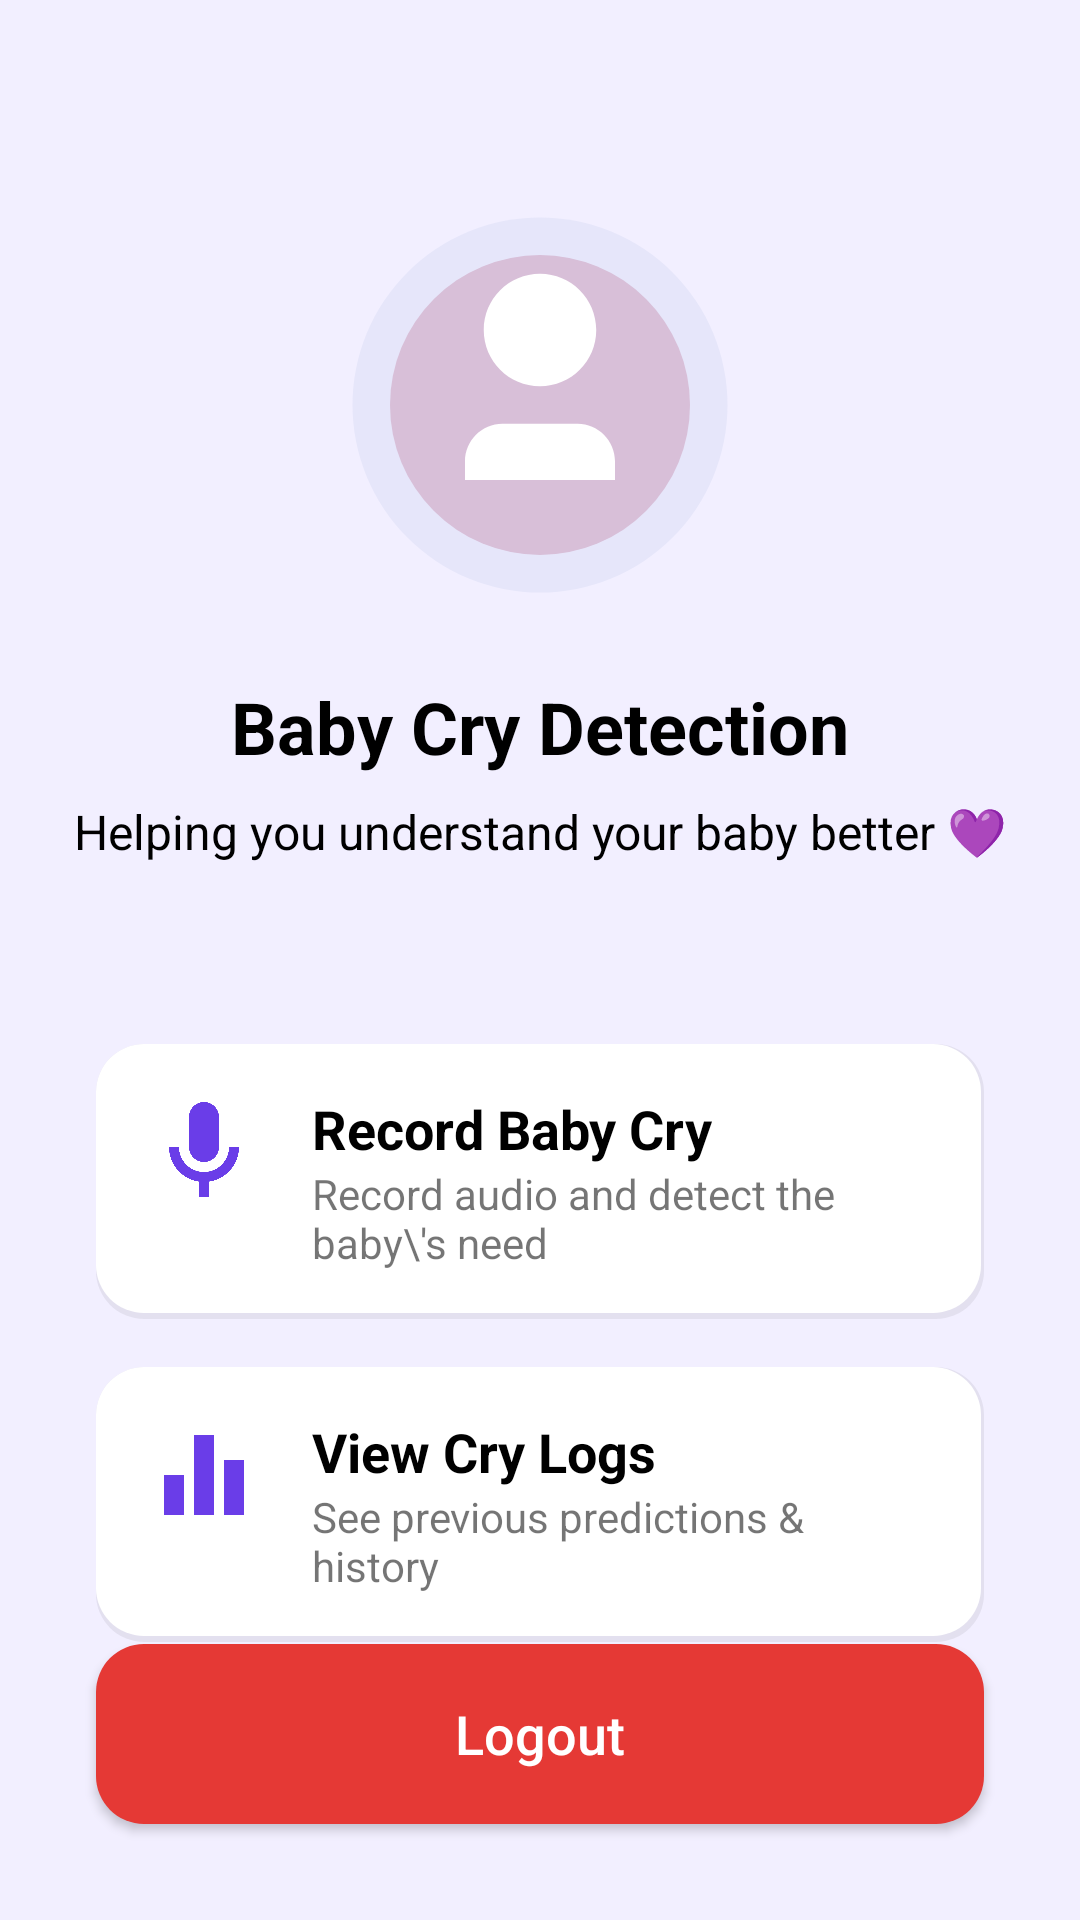

Icon bounding boxes for this 1080w x 1920h phone screenshot, format (x1, y1, x2, y2):
chart: (164, 1435, 244, 1515)
microphone: (169, 1102, 239, 1197)
